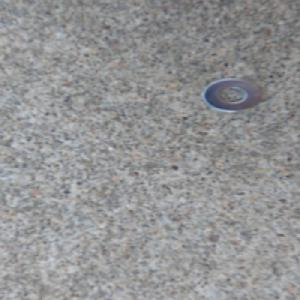Washer: (197, 75, 265, 114)
